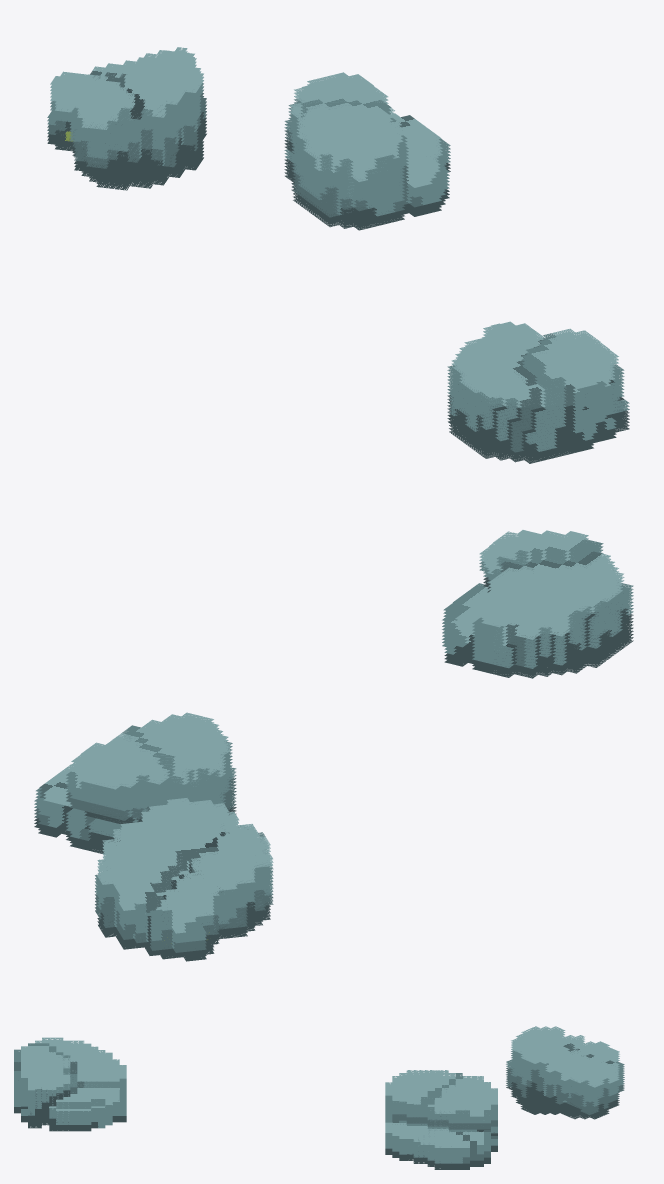
File: swamp-stones.gltf
3 views of the same model, one above another, from view 1: azimuth 30°, elevation 25°; view 2: azimuth 150°, elevation 25°; view 3: azimuth 270°, elevation 25° (orthographic). The views are drawn at different scales.
Parts seen in each view (by area): view 1: Stones.002, Stones.003, Stones.004; view 2: Stones.004, Stones.002, Stones.003; view 3: Stones.003, Stones.002, Stones.004.
Part boxes in pixels (x1,y1,x2,y2): Stones.002: (447, 321, 629, 463); Stones.003: (284, 72, 450, 230); Stones.004: (47, 47, 206, 190); Stones.004: (95, 798, 273, 961); Stones.002: (442, 530, 633, 678); Stones.003: (34, 712, 236, 853); Stones.003: (385, 1070, 497, 1169); Stones.002: (14, 1037, 126, 1131); Stones.004: (506, 1026, 624, 1119).
Size of the model in its own units: 3.61 by 0.9667 by 9.04.
Materials: 1 (1 with a texture image).
